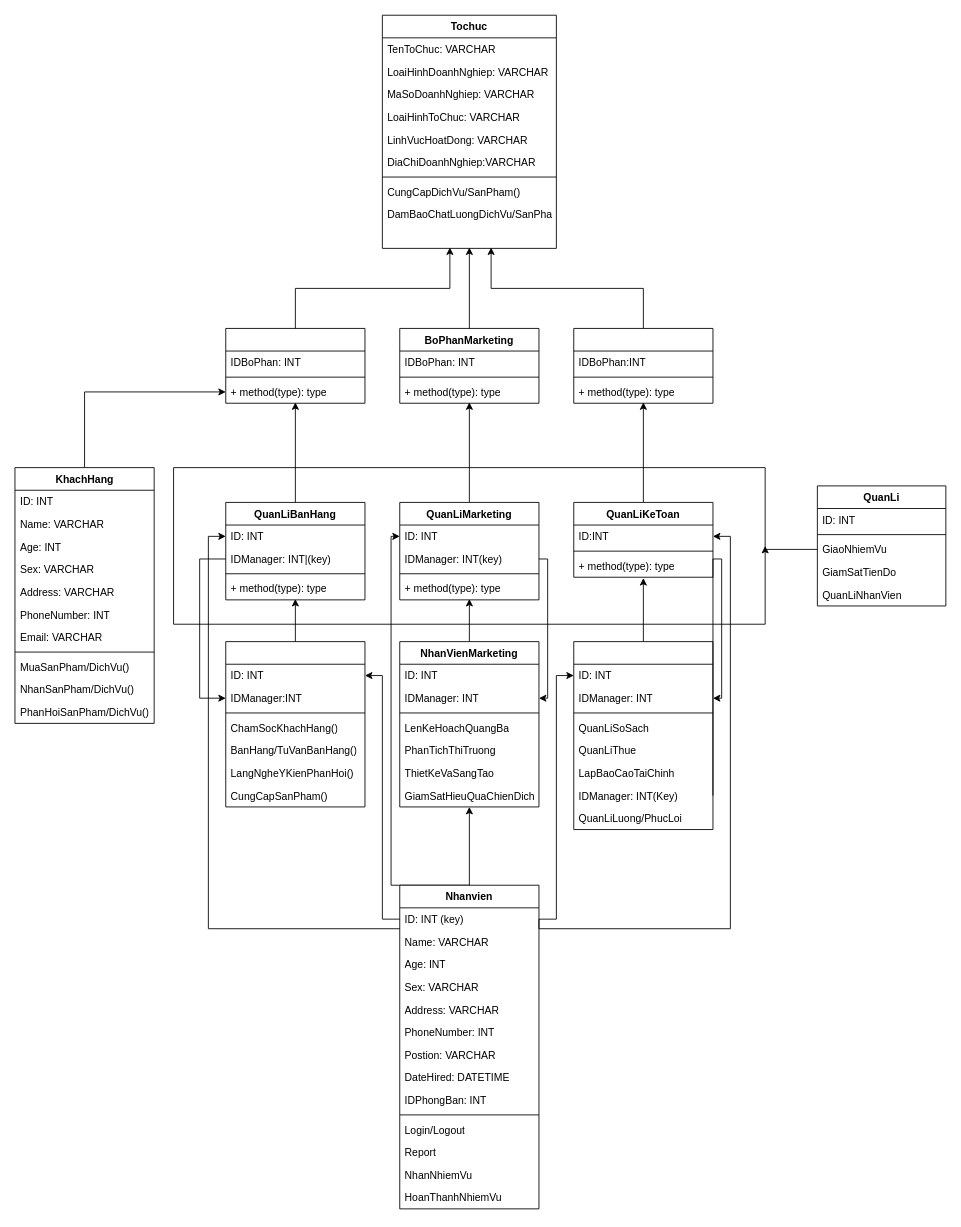
Image size: 961x1227. Some labels were removed from this diagram. Here are the shapes that lost their labels. From the top down, the box of each, then its label:
(225, 328, 365, 403): BoPhanKinhDoanh
(573, 328, 713, 403): BoPhanKeToan
(225, 641, 365, 807): NhanvienBanHang
(573, 641, 713, 830): NhanVienKeToan
